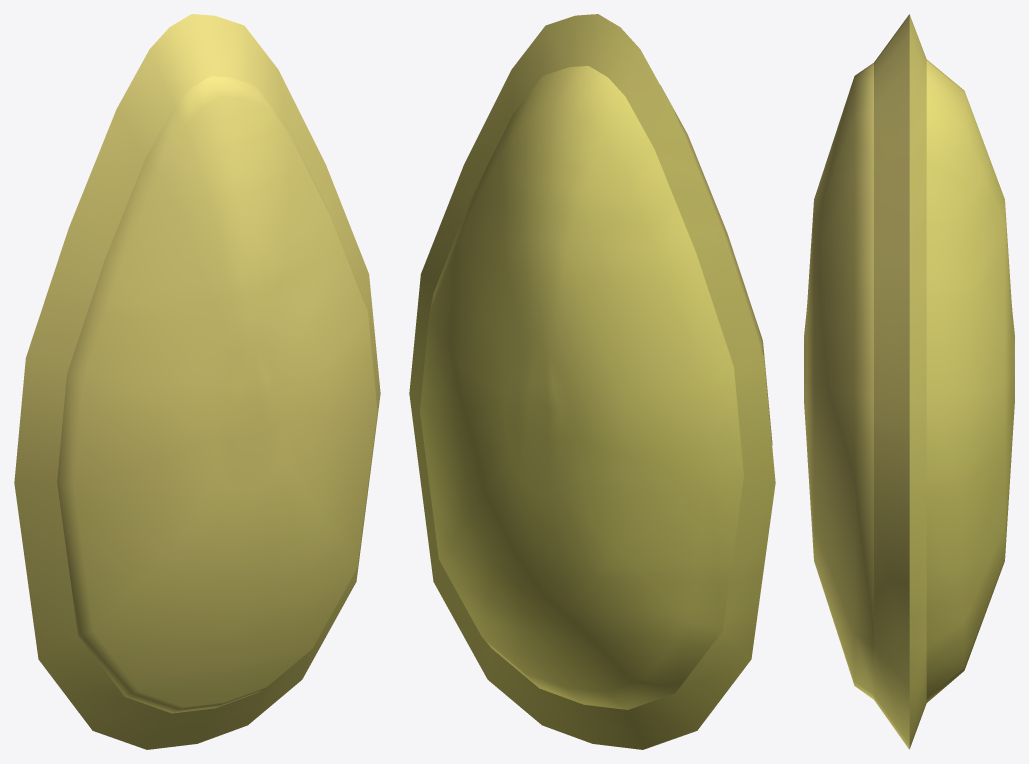
The model's file is PumpkinSeed.fbx.
3 views of the same model, side by side, from view 1: azimuth 30°, elevation 25°; view 2: azimuth 150°, elevation 25°; view 3: azimuth 270°, elevation 25° (orthographic). The views are drawn at different scales.
Parts seen in each view (by area): view 1: PumpkinSeed; view 2: PumpkinSeed; view 3: PumpkinSeed.
Boxes of the visible parts, box(x1,y1,x2,y2) form: PumpkinSeed: box(14, 14, 380, 749); PumpkinSeed: box(409, 14, 775, 749); PumpkinSeed: box(804, 14, 1014, 749).
Bounding box in the file's own units: 0.1858 × 0.3545 × 0.0951.
